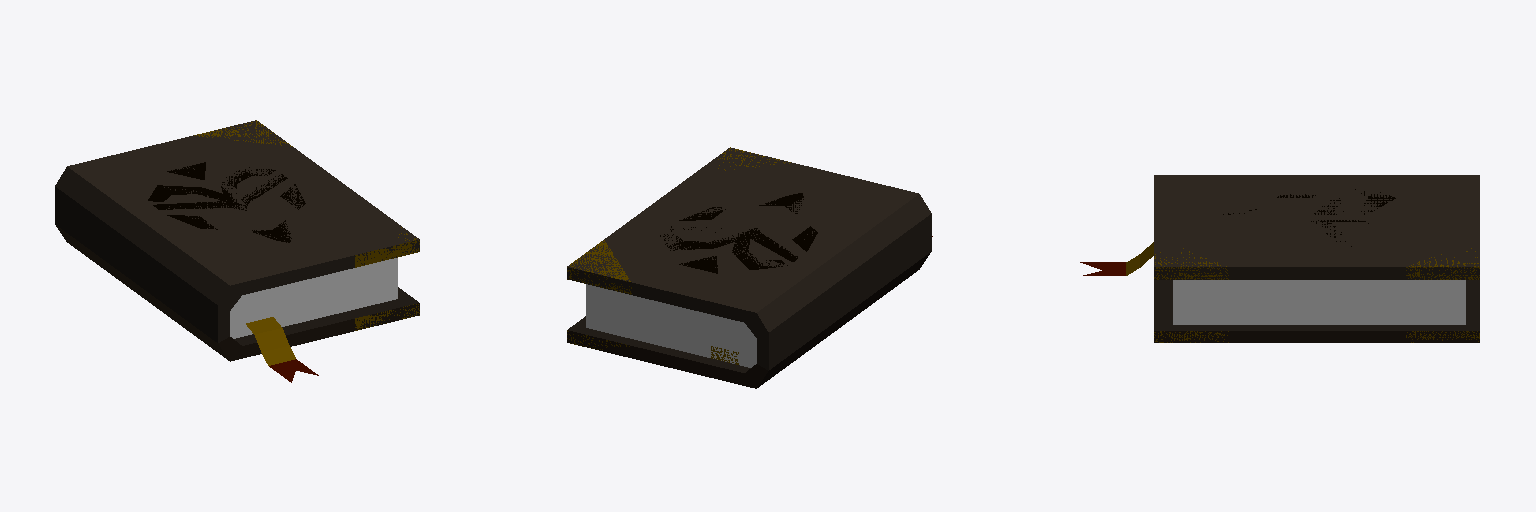
File: book2.obj
3 renders of one model, left to right at view 1: azimuth 30°, elevation 25°; view 2: azimuth 150°, elevation 25°; view 3: azimuth 270°, elevation 25°, orthographic.
Size of the model in its own units: 50 by 18 by 86.